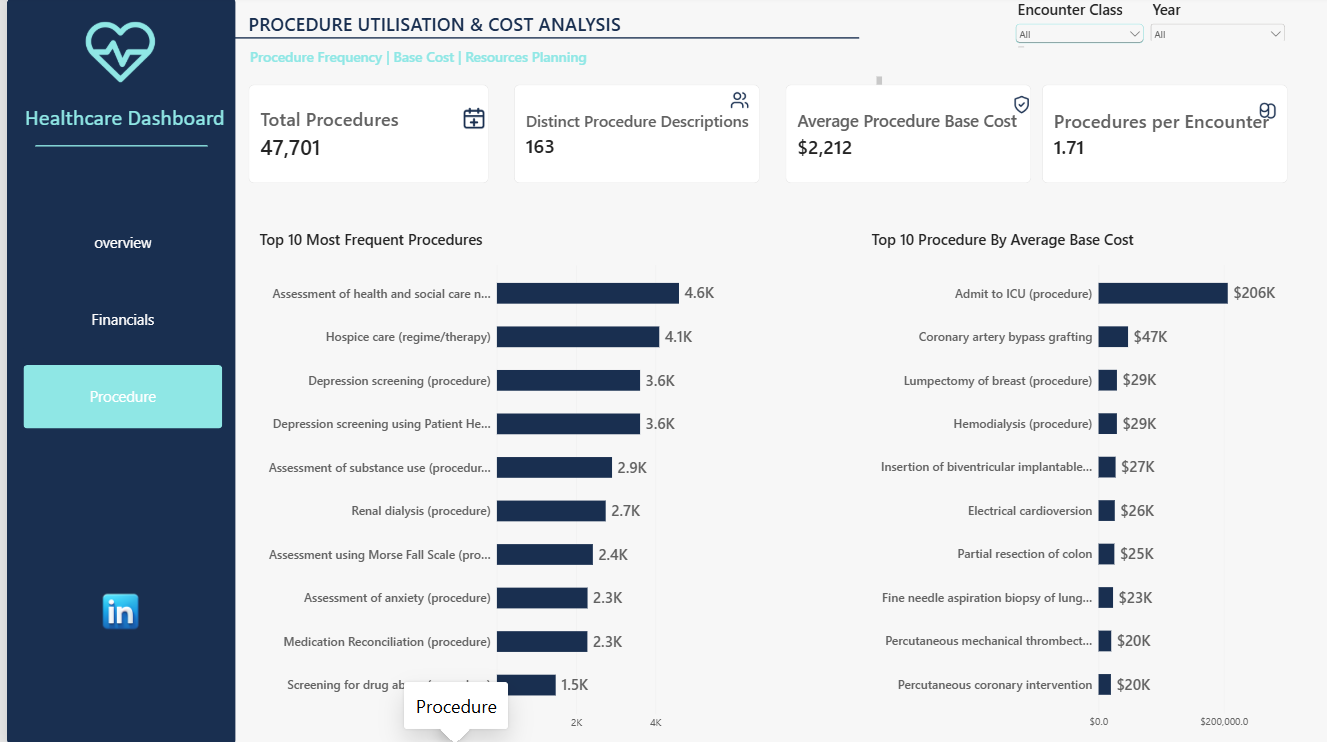

The page's visual inventory and layout, read from the dashboard file:
{"tool":"powerbi","page":{"name":"Procedure","canvas":[1920,1080],"ordinal":2},"visuals":[{"type":"shape","box":[101,275,210.6,85.9],"z":0},{"type":"shape","box":[101,275,210.6,85.9],"z":1000},{"type":"cardVisual","title":"Total Encounters","fields":{"Data":["All Measures.Total Procedures"]},"box":[350.2,124.6,348.1,144],"z":2000},{"type":"cardVisual","fields":{"Data":["All Measures.Distinct Procedure Descriptions"]},"box":[734.8,124.6,356.7,144],"z":3000},{"type":"cardVisual","title":"Uncover Cost","fields":{"Data":["All Measures.Average Procedure Base Cost"]},"box":[1128,124.6,356.7,144],"z":4000},{"type":"cardVisual","fields":{"Data":["All Measures.Procedures per Encounter"]},"box":[1499.7,124.6,356.7,144],"z":5000},{"type":"shape","box":[0,0,331.6,1080.8],"z":6000},{"type":"clusteredBarChart","title":"Top 10 Procedure By Average Base Cost","fields":{"Category":["procedures.DESCRIPTION"],"Y":["All Measures.Average Procedure Base Cost"]},"box":[1236.5,319,668.4,759.5],"z":7000},{"type":"textbox","title":"PROCEDURE UTILISATION & COST ANALYSIS","box":[350.7,16.7,1123.8,52.5],"z":8000},{"type":"textbox","title":"Procedure Frequency | Base Cost | Resources Planning","box":[353.1,69.2,916.2,54.9],"z":9000},{"type":"slicer","fields":{"Values":["DateTable.Year"]},"box":[1652.3,17.2,253.5,94.5],"z":10000},{"type":"image","box":[94.5,23.6,141.8,106.3],"z":11000},{"type":"image","box":[1813.4,148.3,28,28],"z":12000},{"type":"image","box":[1446,156.8,28,28],"z":13000},{"type":"image","box":[1048.5,152.5,28,28],"z":14000},{"type":"image","box":[657.5,154.7,40.8,36.5],"z":15000},{"type":"shape","box":[40.8,189.1,249.2,47.3],"z":16000},{"type":"textbox","box":[25.8,152.5,373.9,64.5],"z":17000},{"type":"shape","box":[330.9,43,904.6,25.8],"z":18000},{"type":"clusteredBarChart","title":"Top 10 Most Frequent Procedures","fields":{"Category":["procedures.DESCRIPTION"],"Y":["All Measures.Total Procedures"]},"box":[349.4,319,698.7,759.5],"z":19000},{"type":"pageNavigator","box":[24.3,306.8,288.6,316],"z":20000},{"type":"image","box":[129.9,852.9,68.5,70.9],"z":21000}]}

Visuals, with their boxes on the page's 1920x1080 design canvas (x1, y1, x2, y2). These are canvas units, not pixel positions in the 1327x742 screenshot, which may show the page scaled, cropped or inside an application window:
shape: (101, 275, 312, 361)
shape: (101, 275, 312, 361)
"Total Encounters" cardVisual: (350, 125, 698, 269)
cardVisual - All Measures.Distinct Procedure Descriptions: (735, 125, 1092, 269)
"Uncover Cost" cardVisual: (1128, 125, 1485, 269)
cardVisual - All Measures.Procedures per Encounter: (1500, 125, 1856, 269)
shape: (0, 0, 332, 1081)
"Top 10 Procedure By Average Base Cost" clusteredBarChart: (1236, 319, 1905, 1078)
"PROCEDURE UTILISATION & COST ANALYSIS" textbox: (351, 17, 1474, 69)
"Procedure Frequency | Base Cost | Resources Planning" textbox: (353, 69, 1269, 124)
slicer - DateTable.Year: (1652, 17, 1906, 112)
image: (94, 24, 236, 130)
image: (1813, 148, 1841, 176)
image: (1446, 157, 1474, 185)
image: (1048, 152, 1076, 180)
image: (658, 155, 698, 191)
shape: (41, 189, 290, 236)
textbox: (26, 152, 400, 217)
shape: (331, 43, 1236, 69)
"Top 10 Most Frequent Procedures" clusteredBarChart: (349, 319, 1048, 1078)
pageNavigator: (24, 307, 313, 623)
image: (130, 853, 198, 924)
